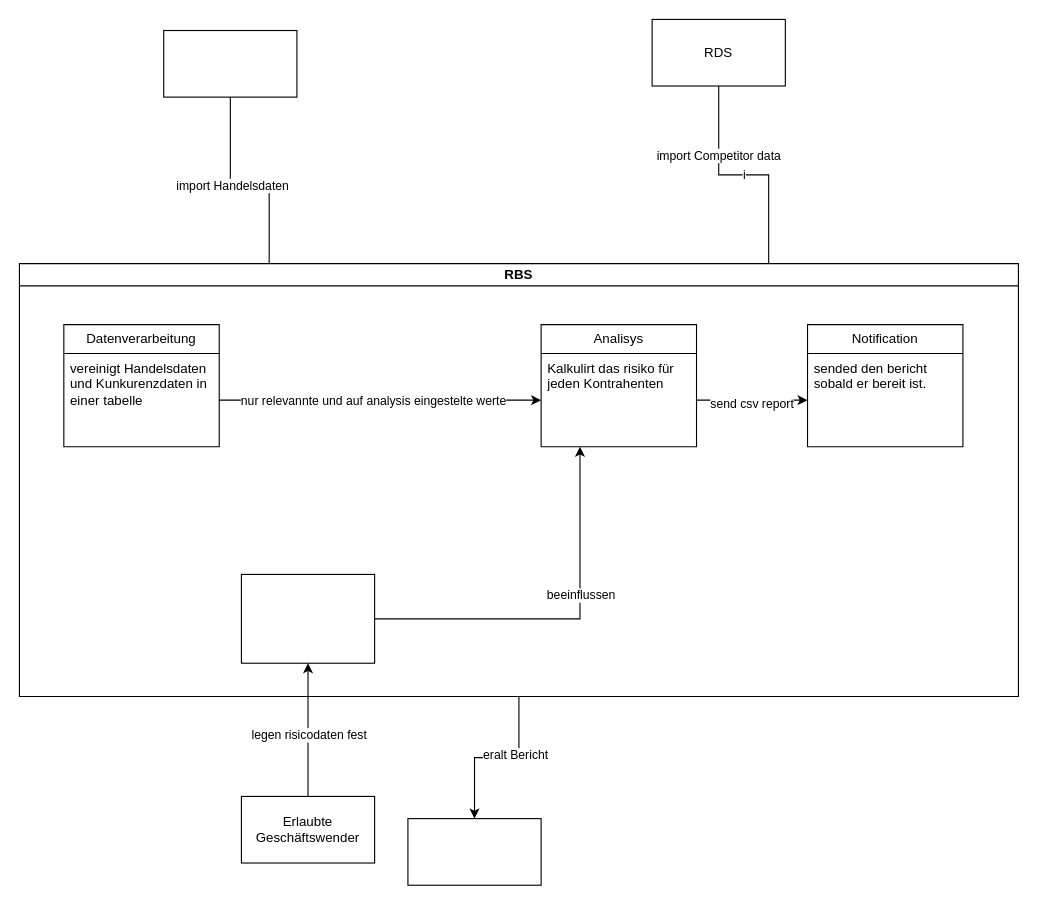
Image size: 1038x905. Some labels were removed from this diagram. Here are the shapes that lost their labels. From the top down, the centre of each, then its label:
(230,63): HDS
(307,618): Externe Risiko parameter
(474,851): Singapore HQ
